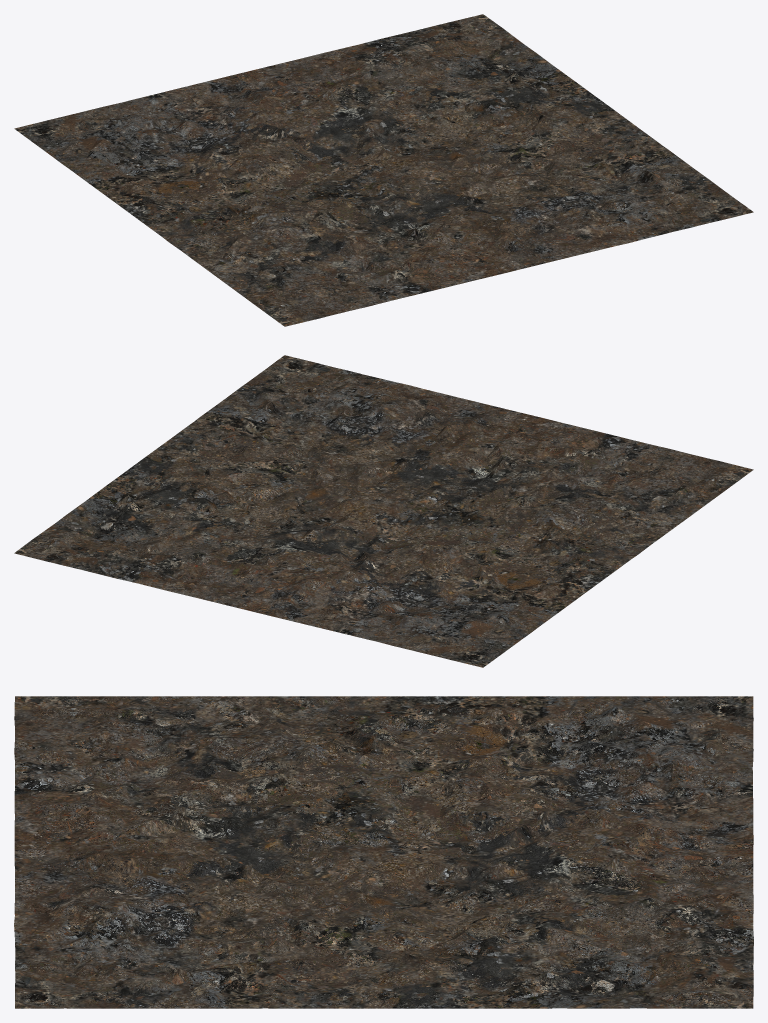
The model's file is Floor_1.fbx.
3 renders of one model, top to bottom at view 1: azimuth 30°, elevation 25°; view 2: azimuth 150°, elevation 25°; view 3: azimuth 270°, elevation 25°, orthographic. The views are drawn at different scales.
Parts seen in each view (by area): view 1: Floor_1; view 2: Floor_1; view 3: Floor_1.
Part boxes in pixels (bbox=[...]): Floor_1: bbox=[14, 14, 753, 326]; Floor_1: bbox=[14, 355, 753, 667]; Floor_1: bbox=[14, 696, 753, 1008].
Size of the model in its own units: 401 by 15.04 by 401.
